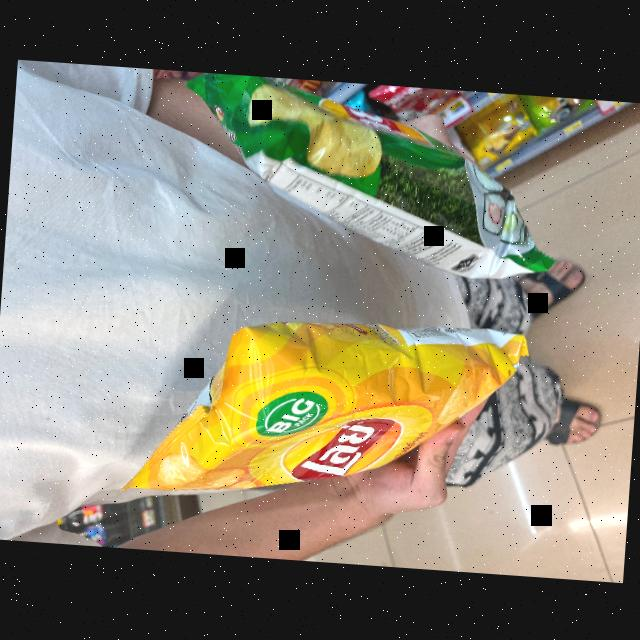snack_bag: (114, 288, 532, 533), (178, 70, 566, 288)
